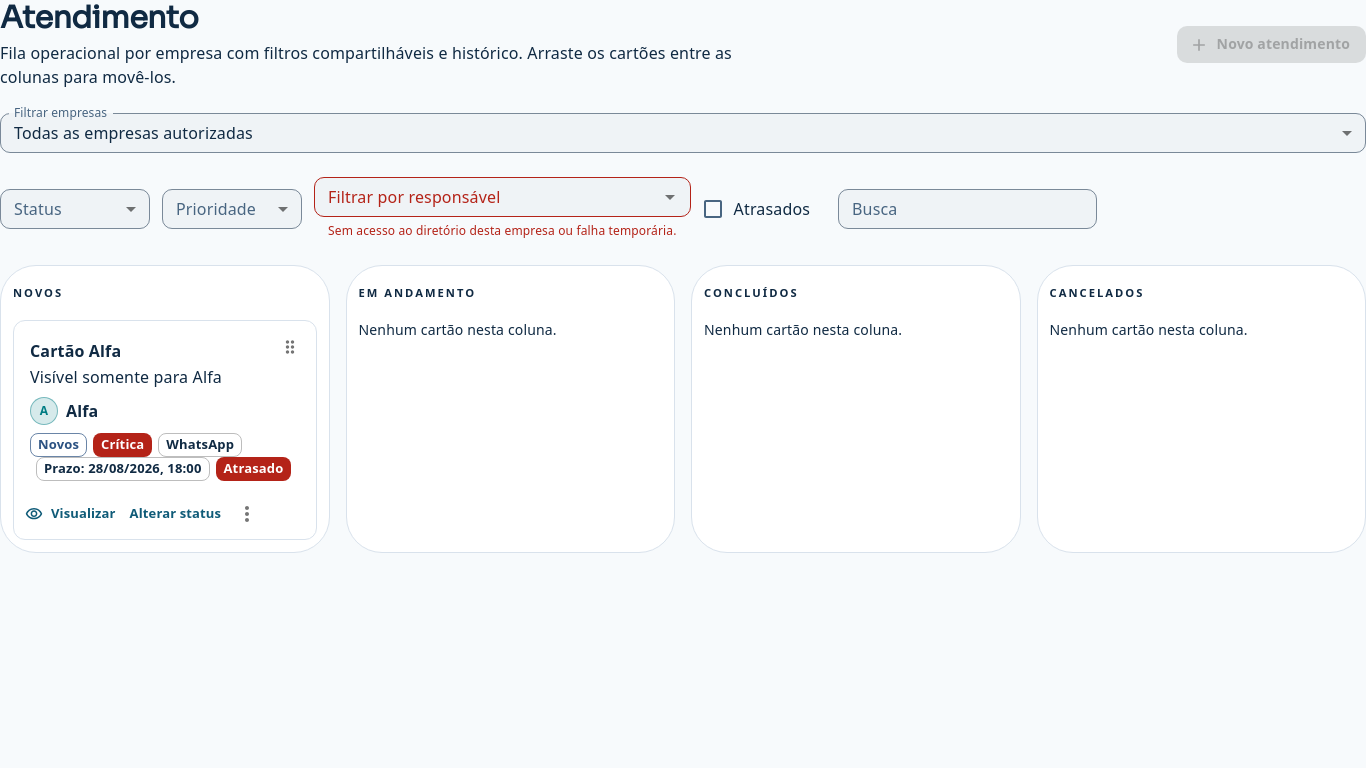
Test: AtendimentoPage › keeps Novo atendimento disabled with an explanation when no company grants create
Check: the heading "Cartão Alfa" is shown, box left=30, top=340, right=121, bottom=362
Hover over the element showing "Novo atendimento": (1271, 45) left=1177, top=26, right=1365, bottom=63
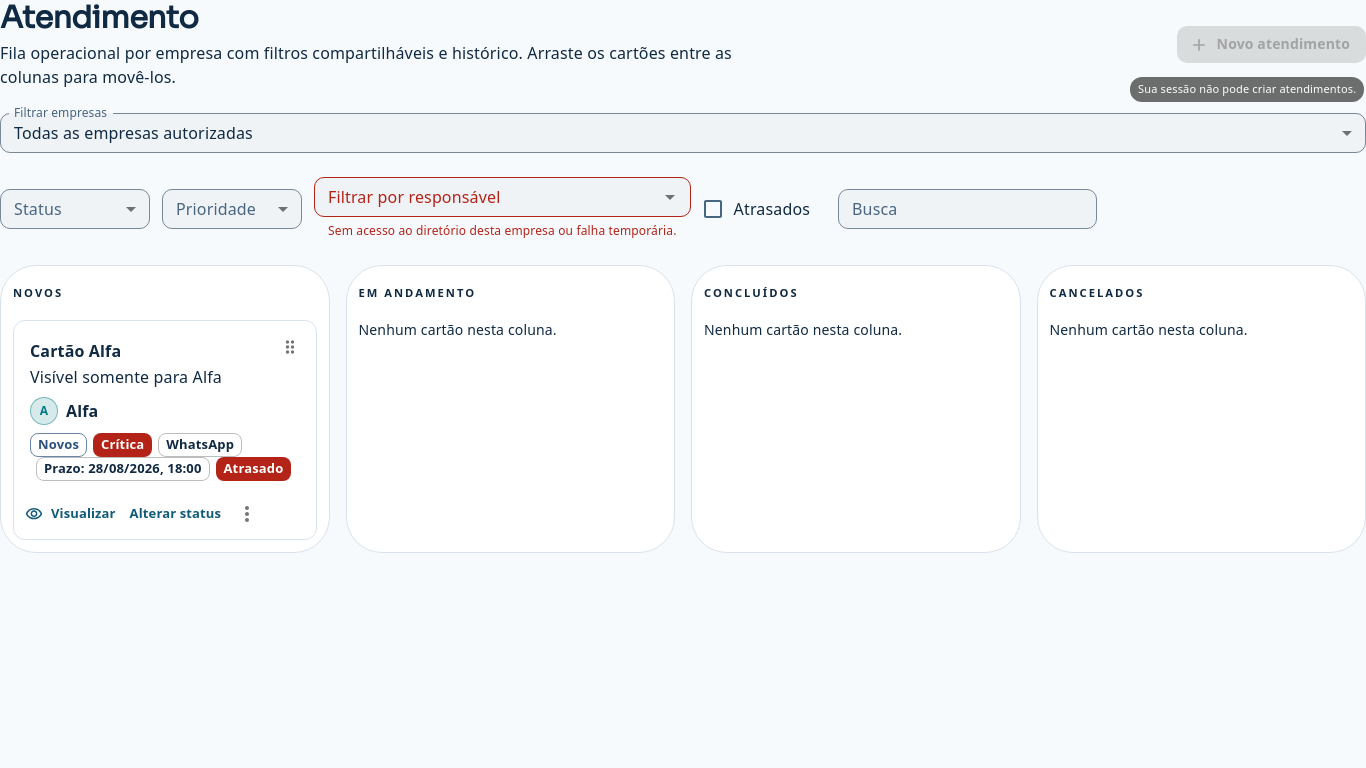
Check: the tooltip reads "Sua sessão não pode criar atendimentos.", box left=1138, top=81, right=1356, bottom=96
Click the button "Visualizar": (71, 514) left=22, top=498, right=121, bottom=529
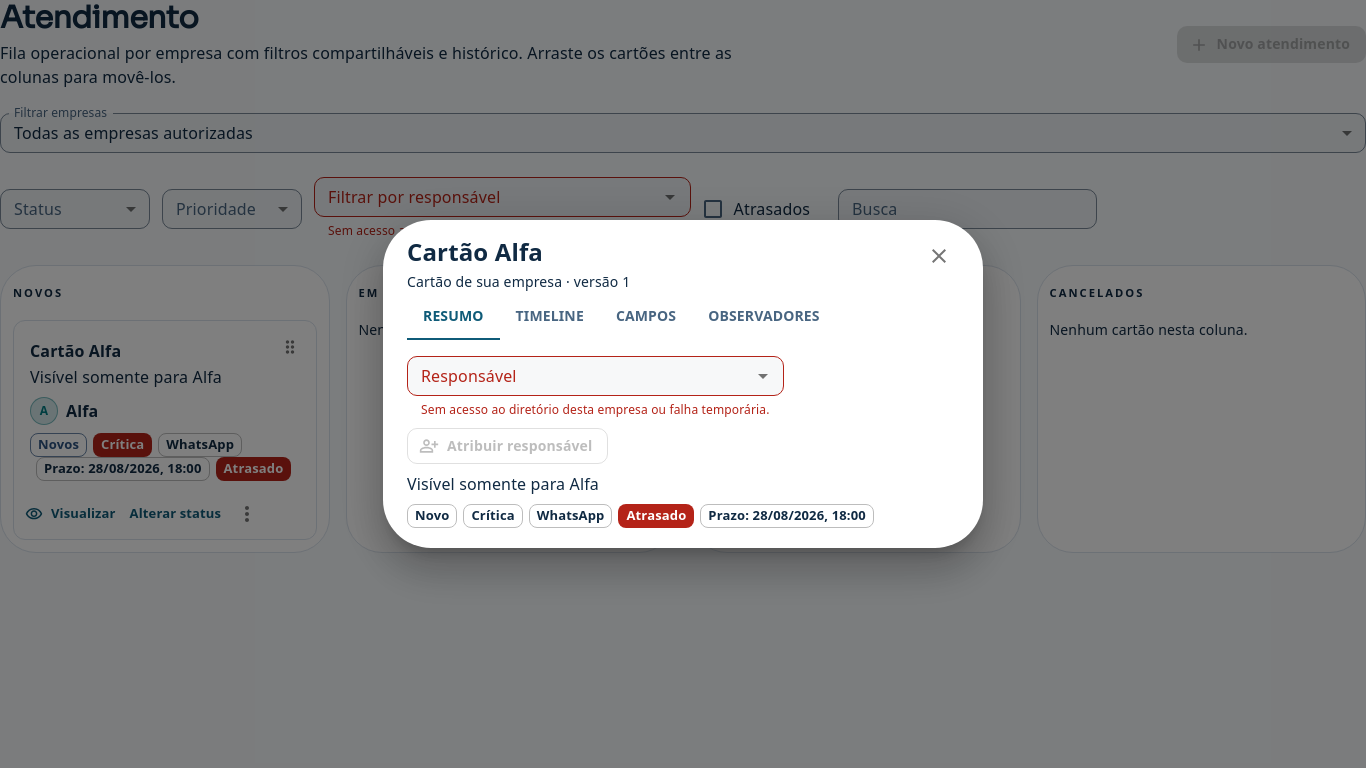
Check: the dialog is shown, box left=383, top=220, right=983, bottom=548
Check: the text "Visível somente para Alfa" is shown, box left=407, top=473, right=599, bottom=495
